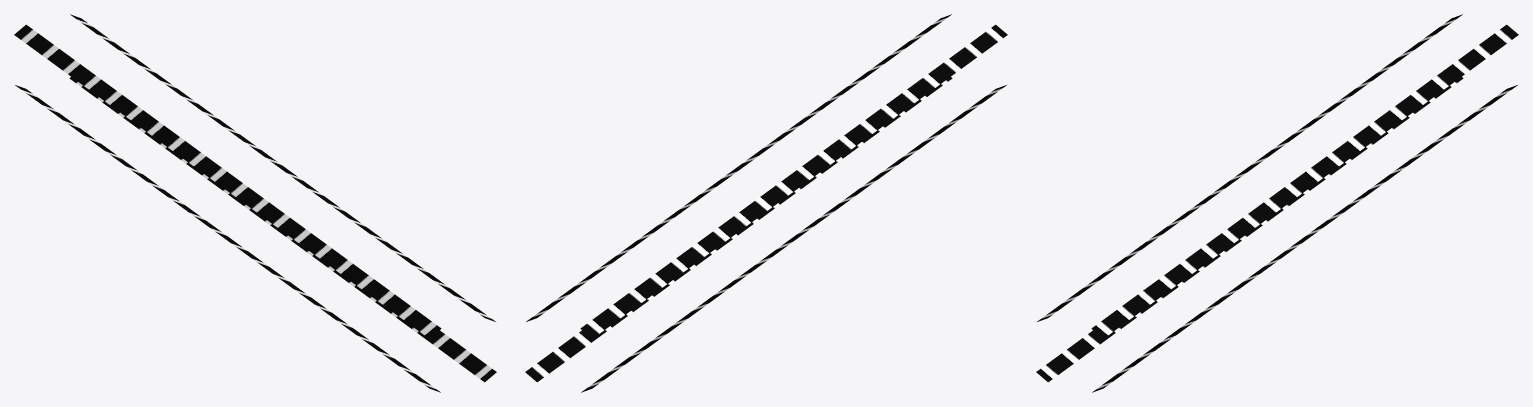
File: EmissionRod.fbx
3 views of the same model, side by side, from view 1: azimuth 30°, elevation 25°; view 2: azimuth 150°, elevation 25°; view 3: azimuth 330°, elevation 25° (orthographic).
Visible parts, largest first — view 1: EmissionRod; view 2: EmissionRod; view 3: EmissionRod.
Part boxes in pixels (x1,y1,x2,y2): EmissionRod: (14,14,496,392); EmissionRod: (525,14,1007,392); EmissionRod: (1036,14,1518,392).
Size of the model in its own units: 5.83 by 5.32 by 62.23.
